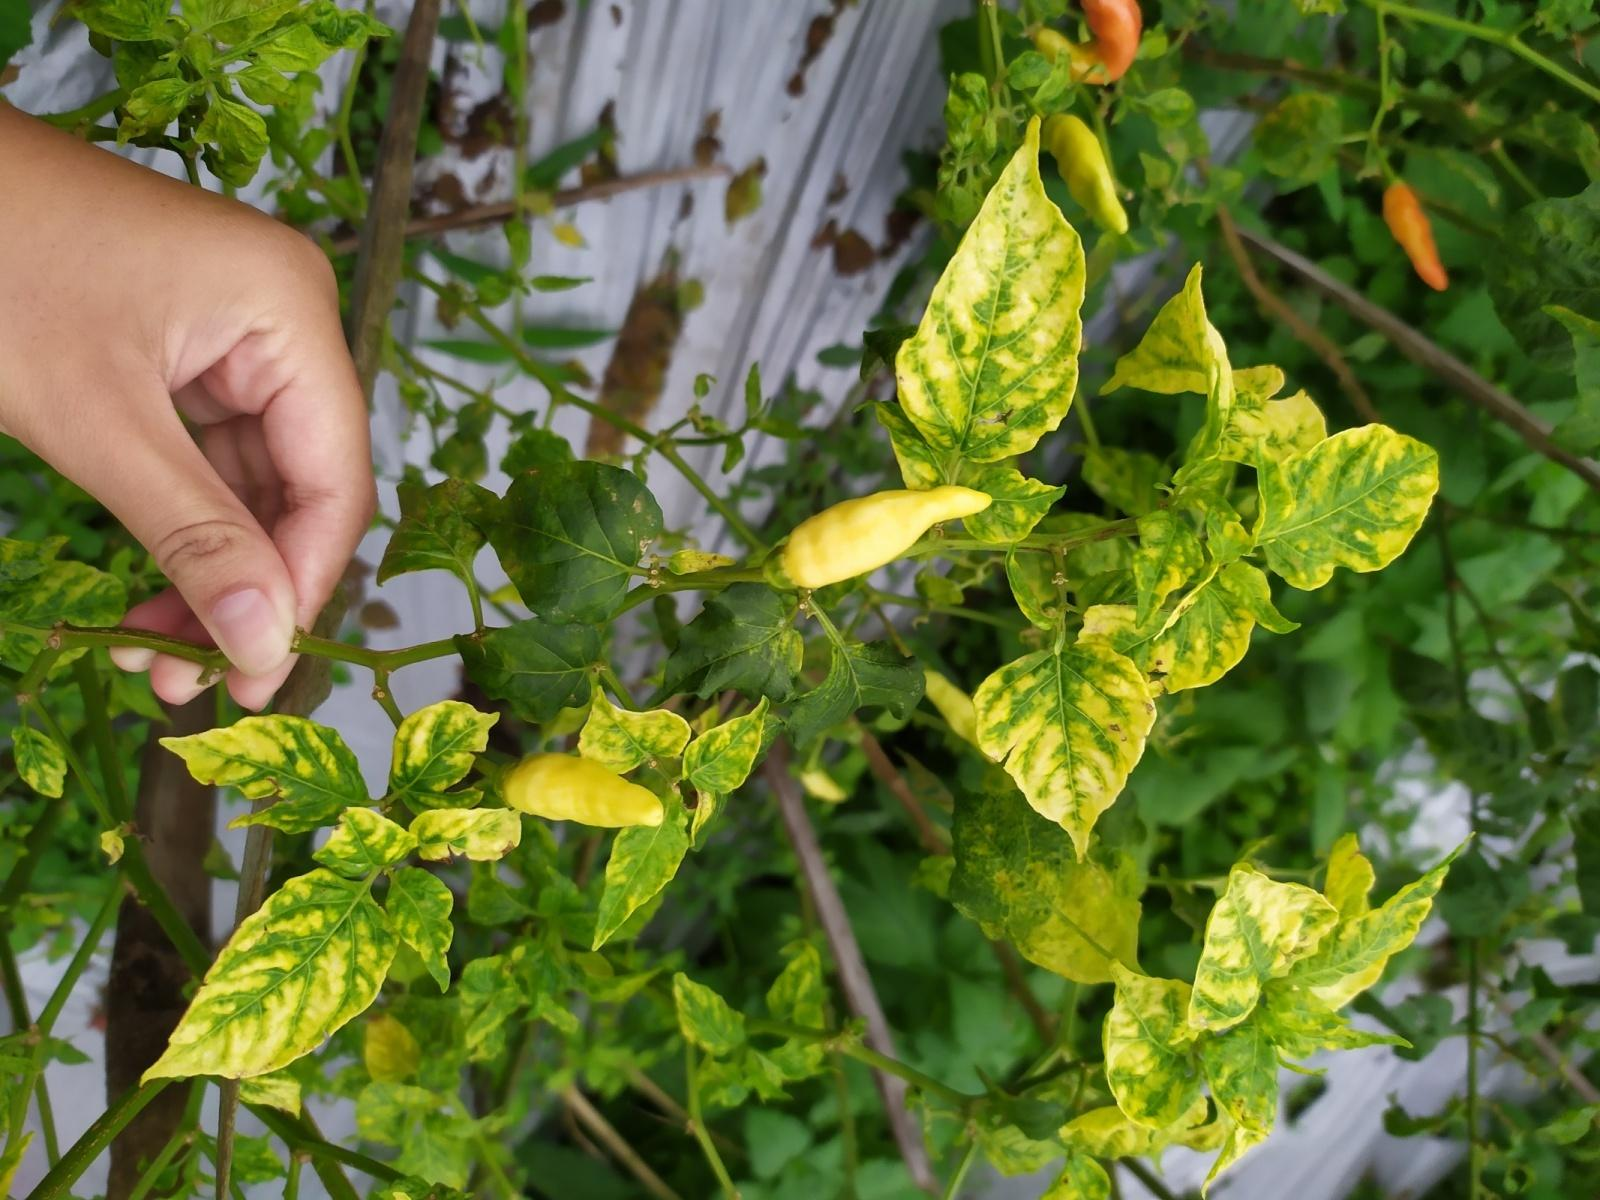cabai_normal: (782, 485, 994, 589), (498, 753, 665, 829), (1042, 112, 1130, 234), (1036, 0, 1143, 86), (1382, 180, 1449, 291)
